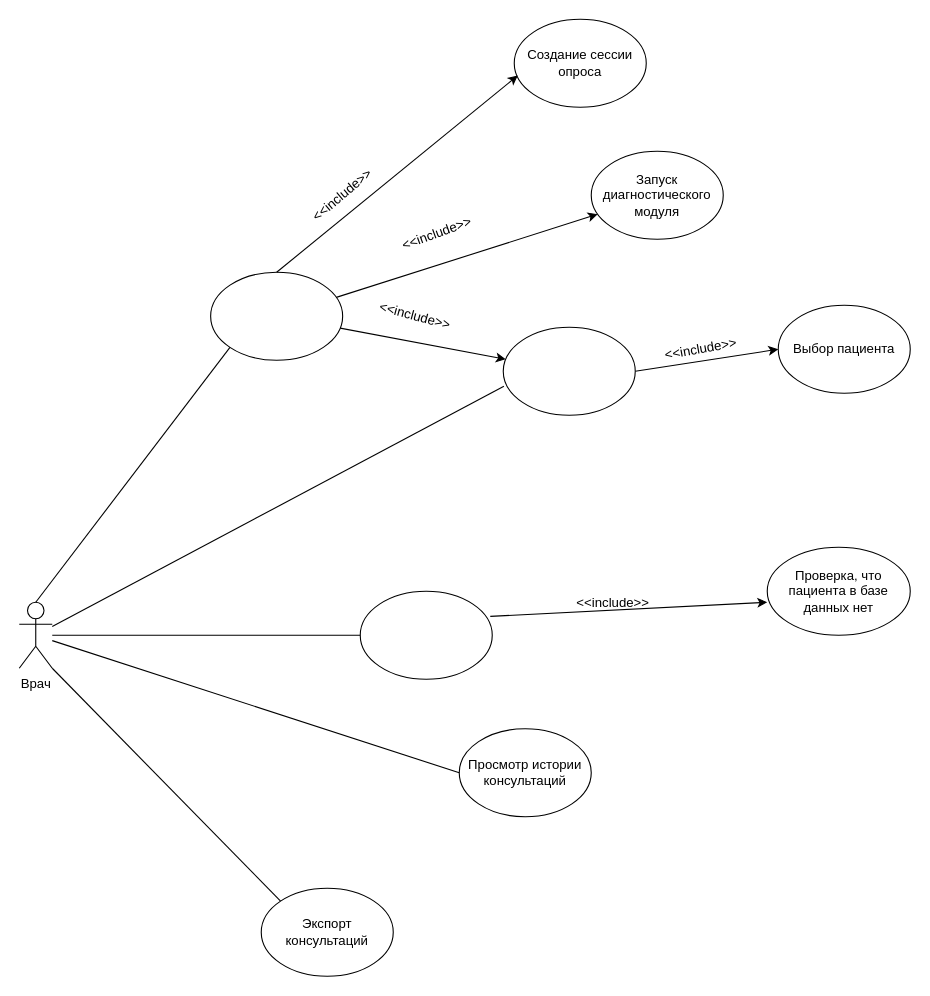
This 930x996 diagram has some shape labels left out. The centre of each missing label's shape, as x and y in pixels:
Привязка пациента: point (568, 370)
Создание консультации: point (276, 315)
Создание пациента: point (425, 634)
